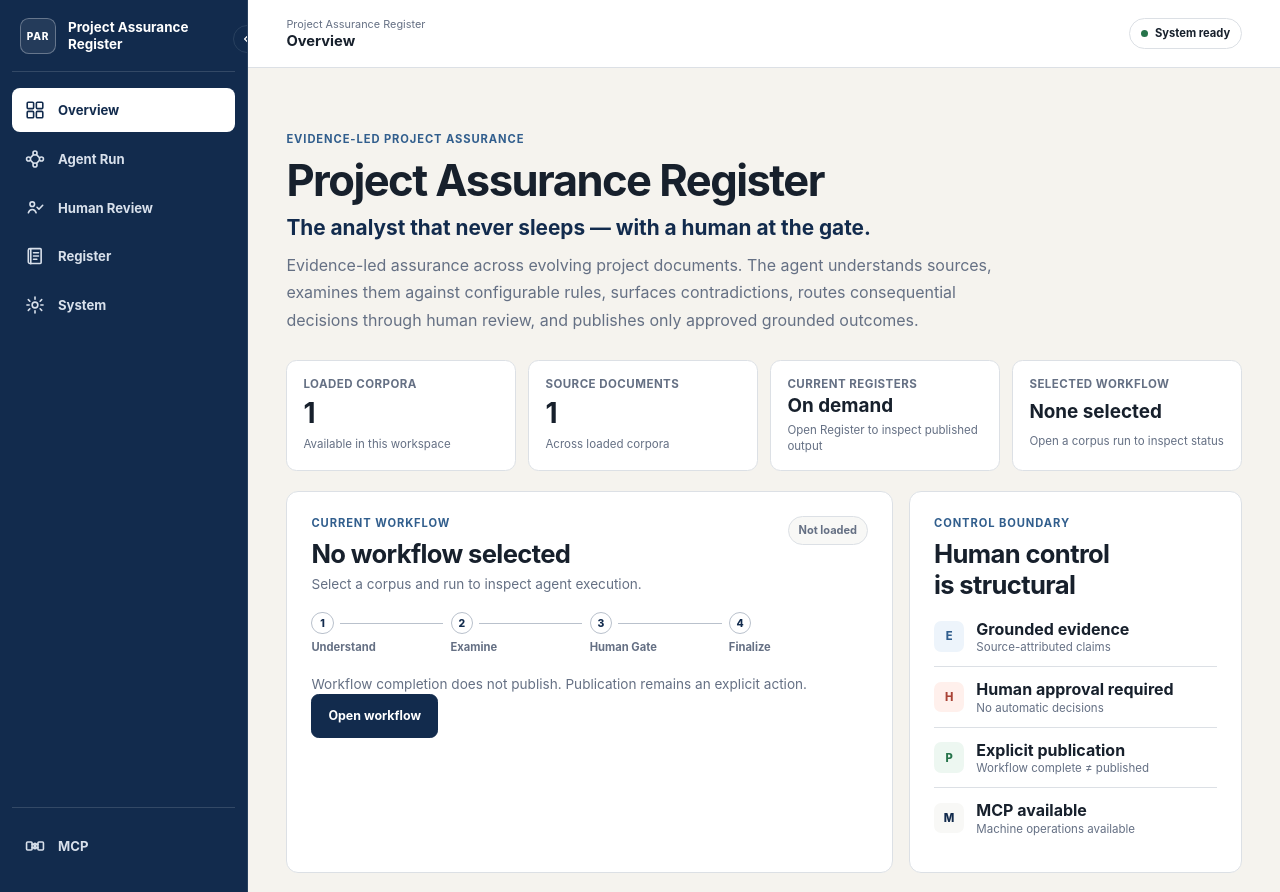
Test: App › shows real overview state and system metadata
The width and height of the screenshot is (1280, 892).
Expected: the text "System ready" is shown, x1=1155 y1=26 x2=1230 y2=40
Expected: the text "Across loaded corpora" is shown, x1=545 y1=437 x2=670 y2=451
Click the button "System": (124, 305) x1=12 y1=283 x2=235 y2=327
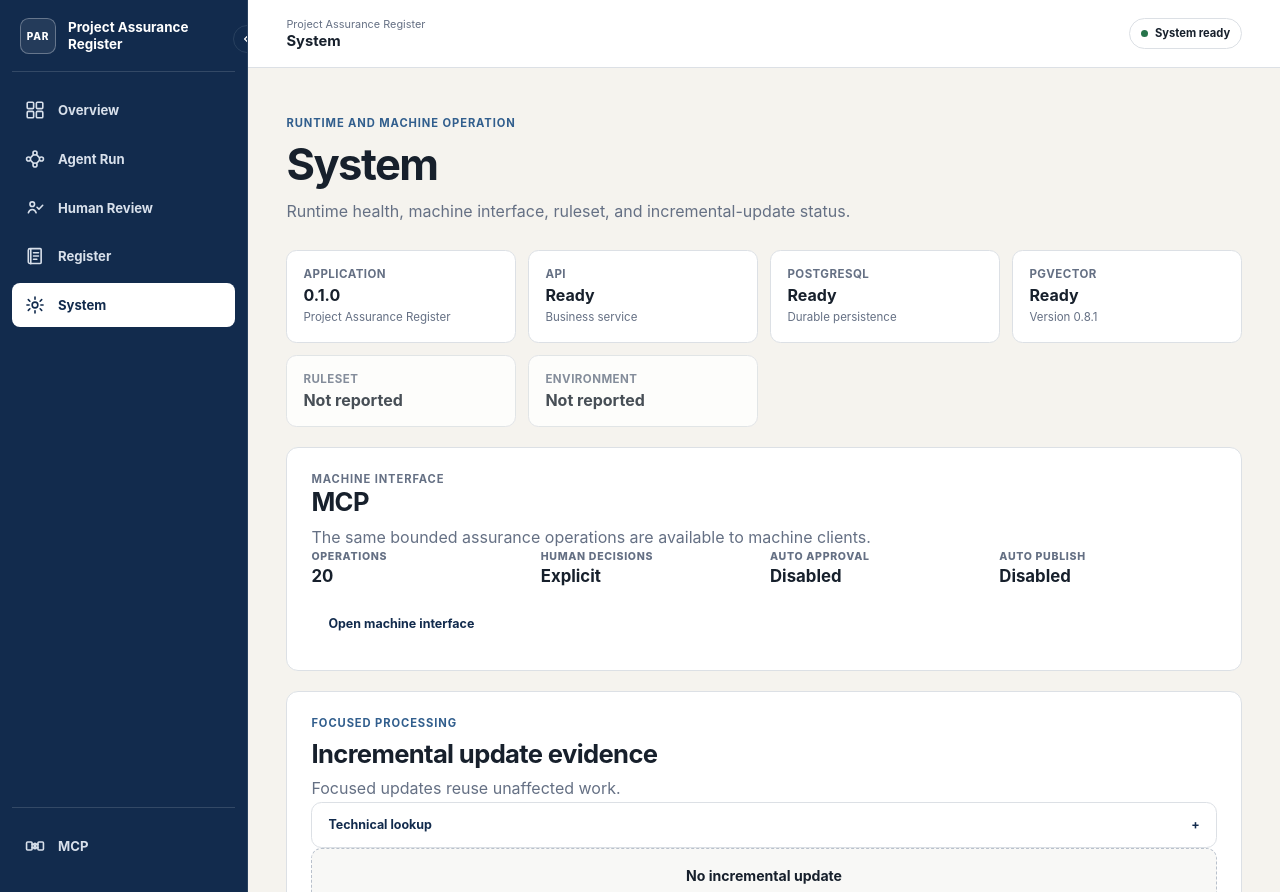
Now the heading "System" is shown, box x1=286 y1=138 x2=438 y2=190
Now the text "0.1.0" is shown, box x1=303 y1=285 x2=340 y2=305
Now the 1st text "Not reported" is shown, box x1=303 y1=390 x2=403 y2=410
